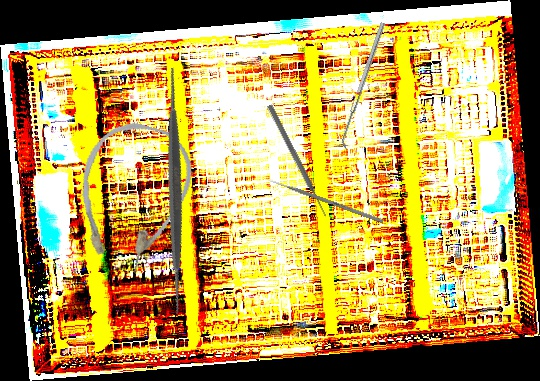Cannula: (59, 112, 204, 282)
Pusher: (265, 103, 330, 219), (264, 176, 384, 224)
Spatula Surgical: (40, 57, 309, 325), (337, 21, 391, 151)
